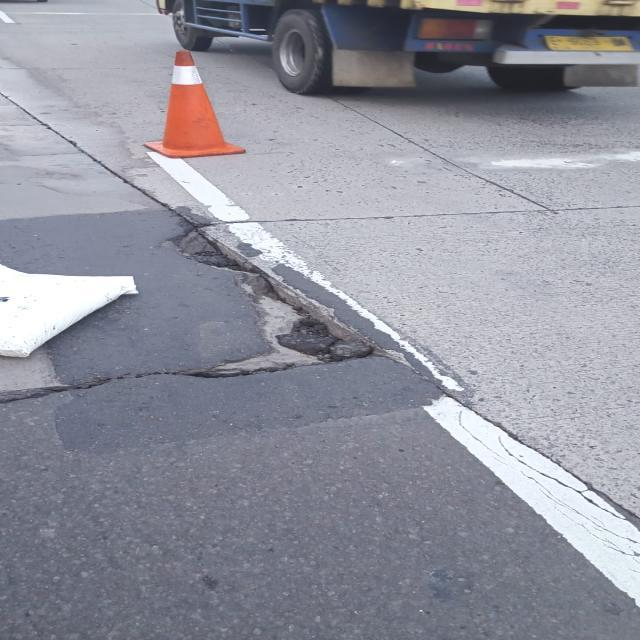Buraco: (156, 221, 424, 382)
